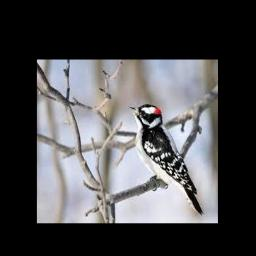Woodpecker: (127, 104, 204, 216)
